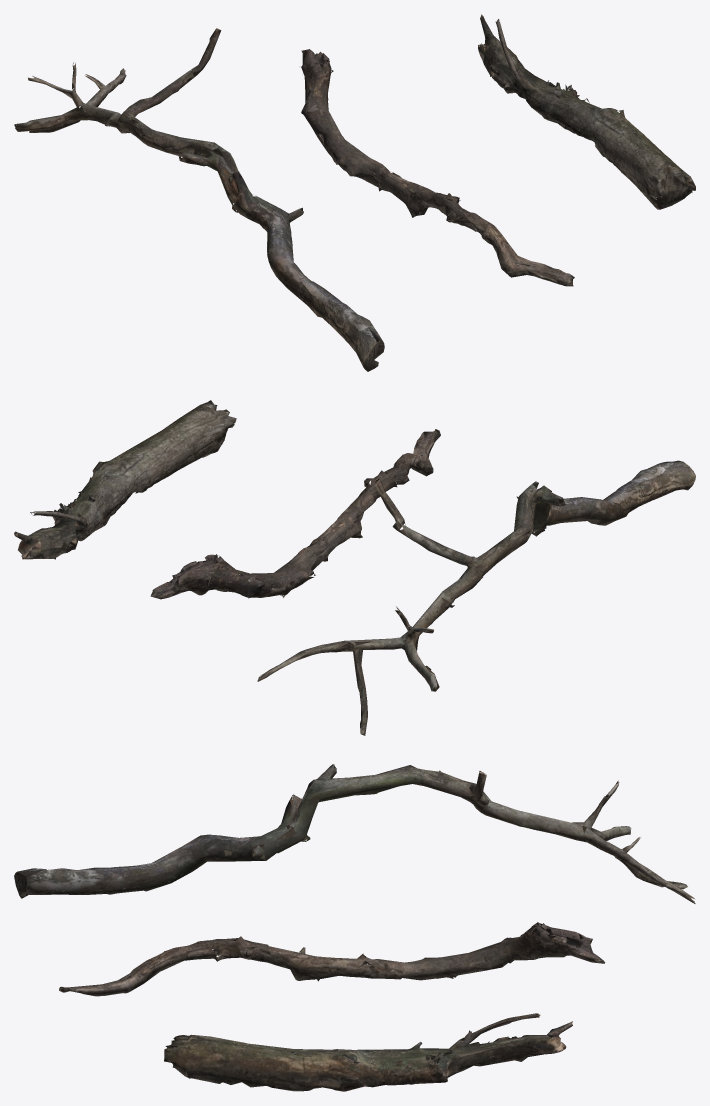
The model's file is dry_branches.glb.
3 views of the same model, one above another, from view 1: azimuth 30°, elevation 25°; view 2: azimuth 150°, elevation 25°; view 3: azimuth 270°, elevation 25° (orthographic). The views are drawn at different scales.
Visible parts, largest first — view 1: dry_branches_medium_01_a, dry_branches_medium_01_c, dry_branches_medium_01_b; view 2: dry_branches_medium_01_a, dry_branches_medium_01_c, dry_branches_medium_01_b; view 3: dry_branches_medium_01_a, dry_branches_medium_01_c, dry_branches_medium_01_b.
Part boxes in pixels (x1,y1,x2,y2): dry_branches_medium_01_a: (14,28,384,371); dry_branches_medium_01_c: (478,14,695,209); dry_branches_medium_01_b: (301,49,574,286); dry_branches_medium_01_a: (257,460,695,735); dry_branches_medium_01_c: (14,400,236,559); dry_branches_medium_01_b: (150,429,440,599); dry_branches_medium_01_a: (14,764,695,903); dry_branches_medium_01_c: (164,1013,572,1091); dry_branches_medium_01_b: (59,922,605,996).
Size of the model in its own units: 1.06 by 0.3401 by 1.3.
Materials: 1 (1 with a texture image).
